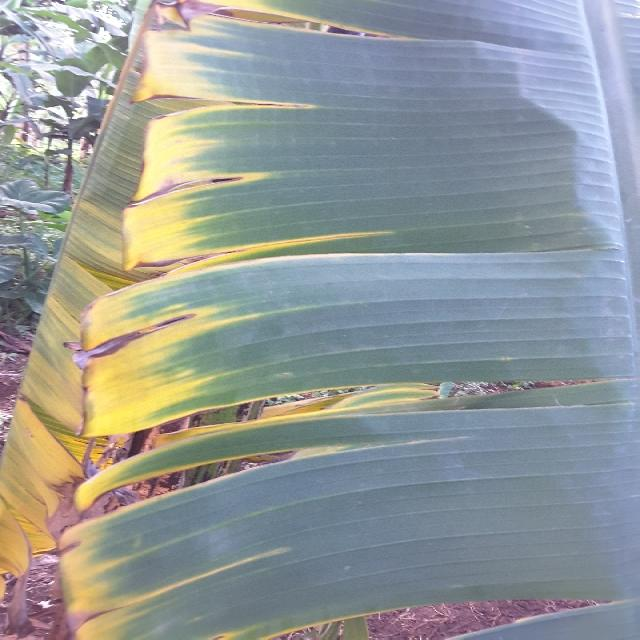Cordana: (0, 0, 511, 636)
